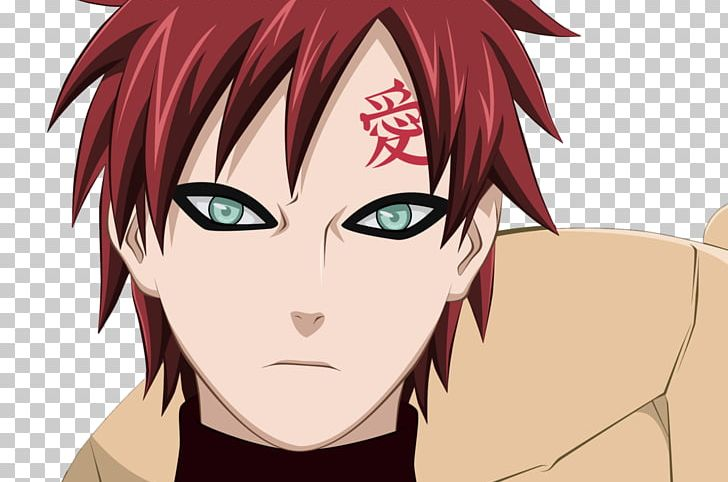gaara: (108, 22, 514, 452)
